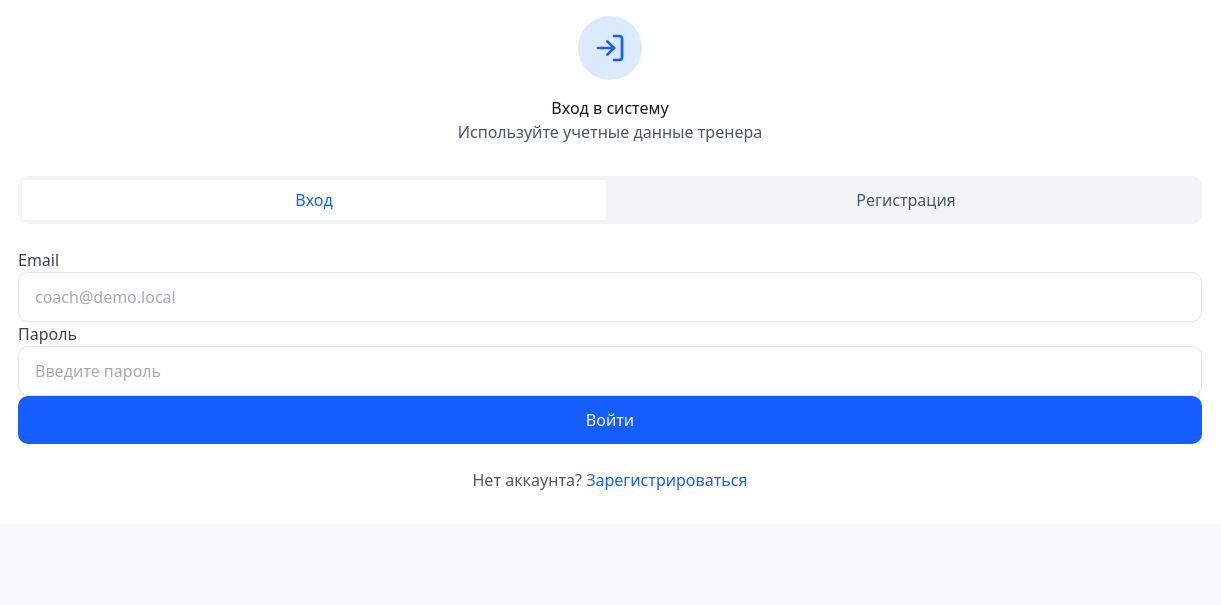
it: Login › shows error when login fails
This screenshot has width=1221, height=605.
Step 1. Type "trainer@gmail.com" into the field with placeholder "coach@demo.local" → (610,297), box [18,272,1202,322]
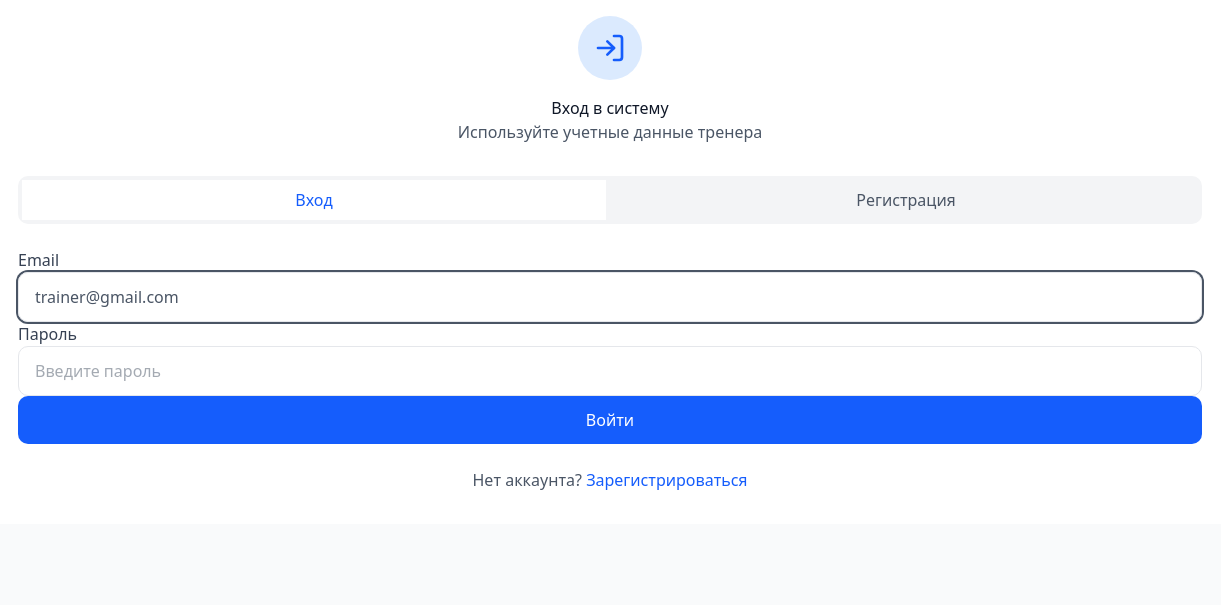
Step 2. Type "wrong" into the password field with placeholder "Введите пароль" → (610,371), box [18,346,1202,396]
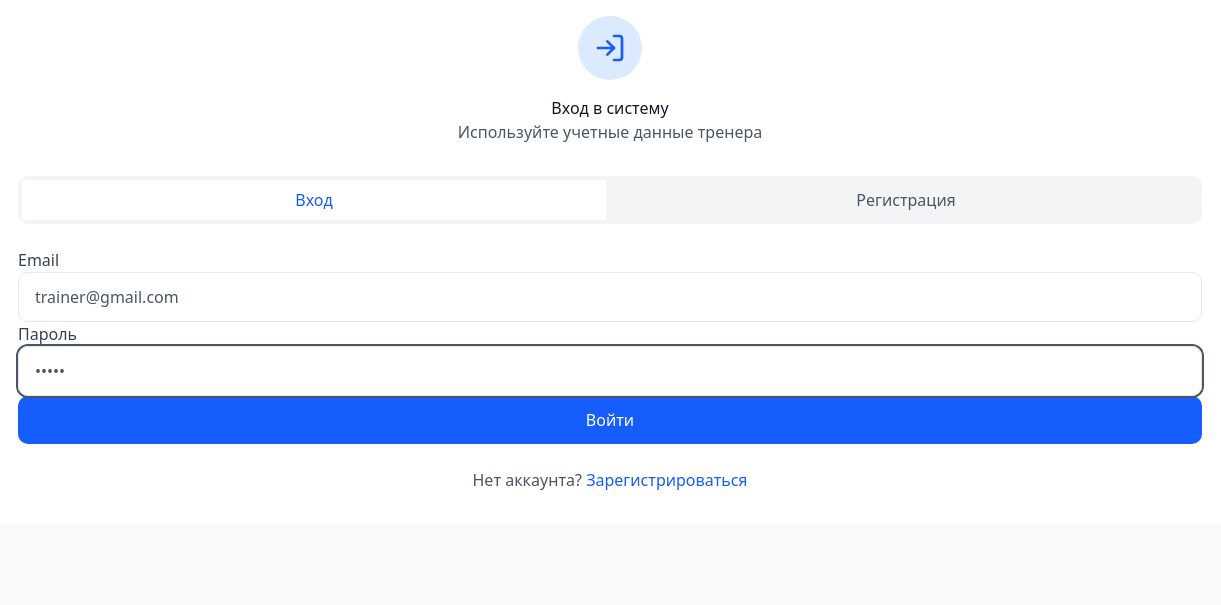
Step 3. Click the submit button → (610,420), box [18,396,1202,444]
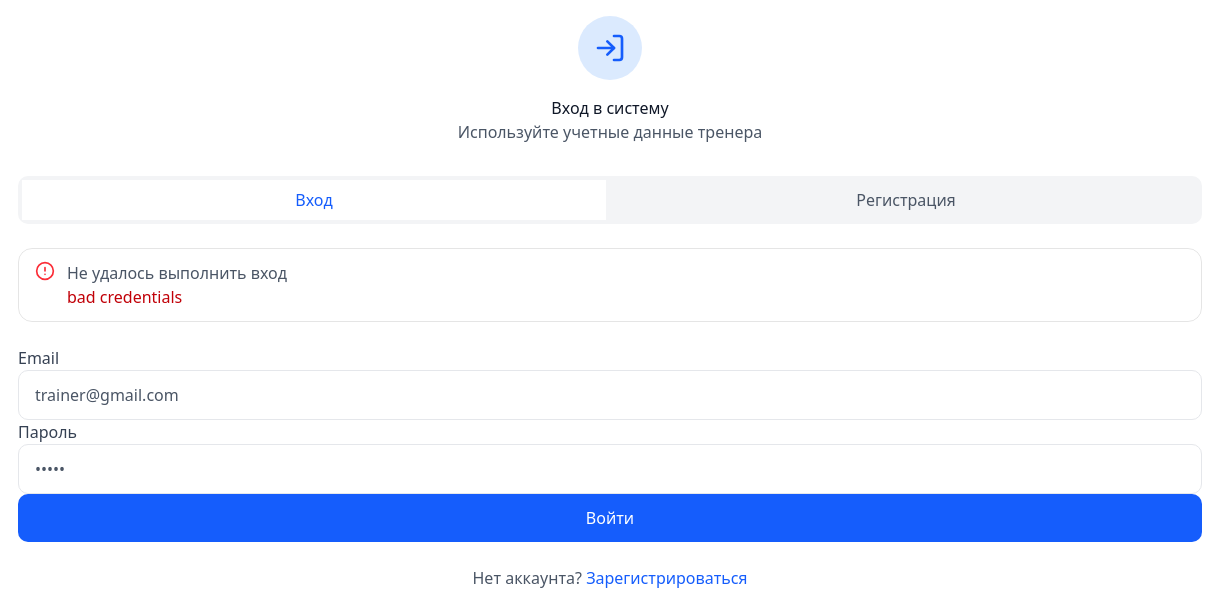
Expected: the text "bad credentials" is shown, [67,286,182,308]
